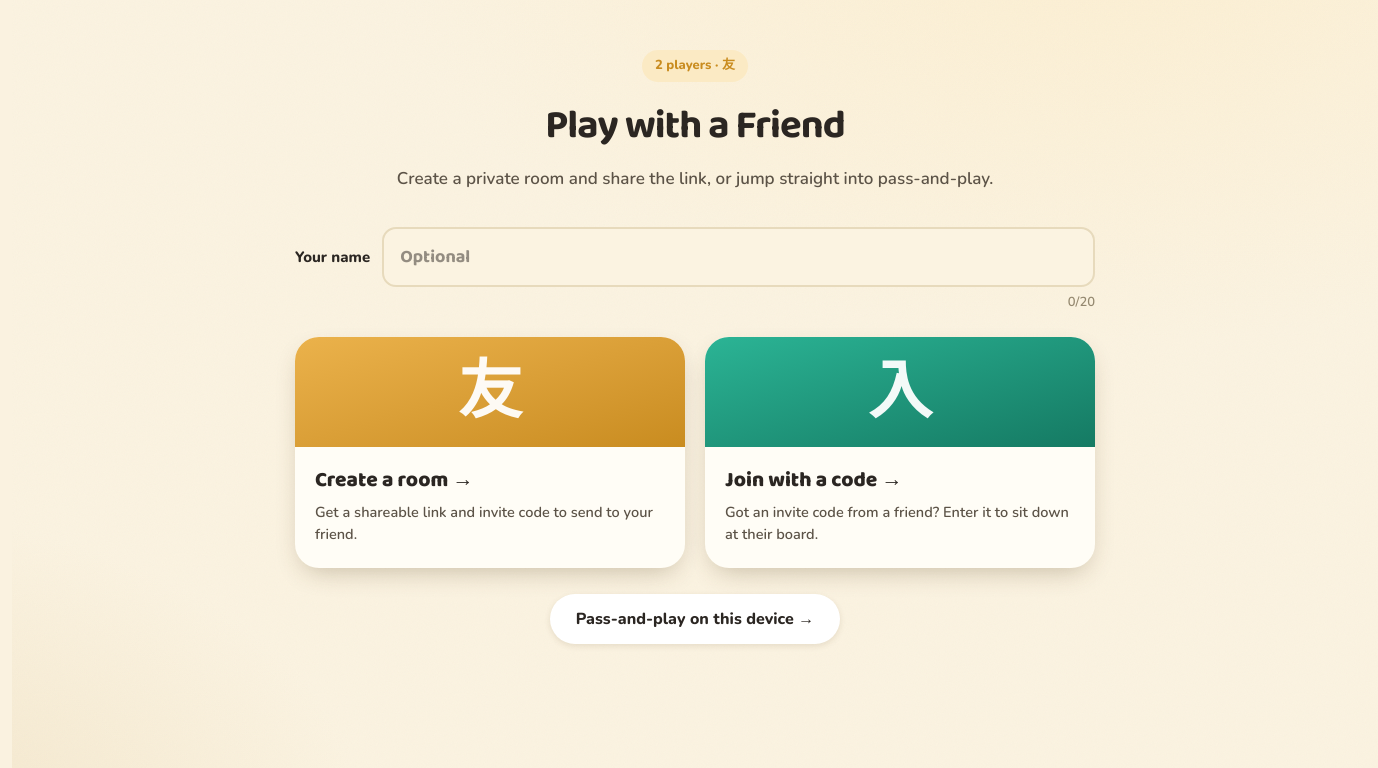
Test: MultiplayerScreen online waiting panel › invite panel starts open and toggles closed and open with chevrons
This screenshot has width=1378, height=768.
Step 1. Click the button "Create a room" → (490, 392), box [295, 336, 685, 568]
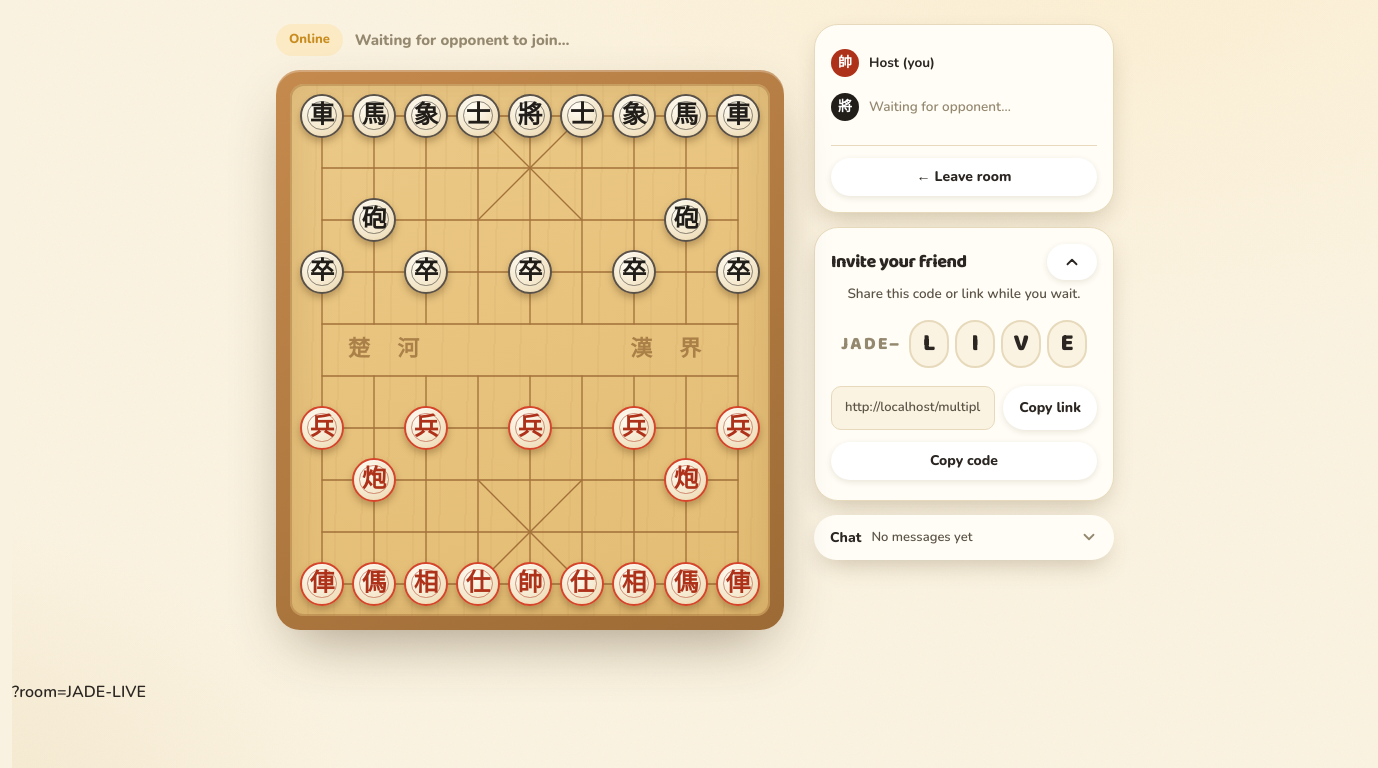
Expected: the element with test id "waiting-invite-panel" is shown, [814, 227, 1114, 501]
Expected: the element with test id "waiting-invite-body" is shown, [831, 284, 1097, 484]
Expected: the button "Copy link" is shown, [1003, 386, 1097, 430]
Step 2. Click the button with test id "waiting-invite-toggle" → (1072, 262), box [1047, 244, 1097, 280]
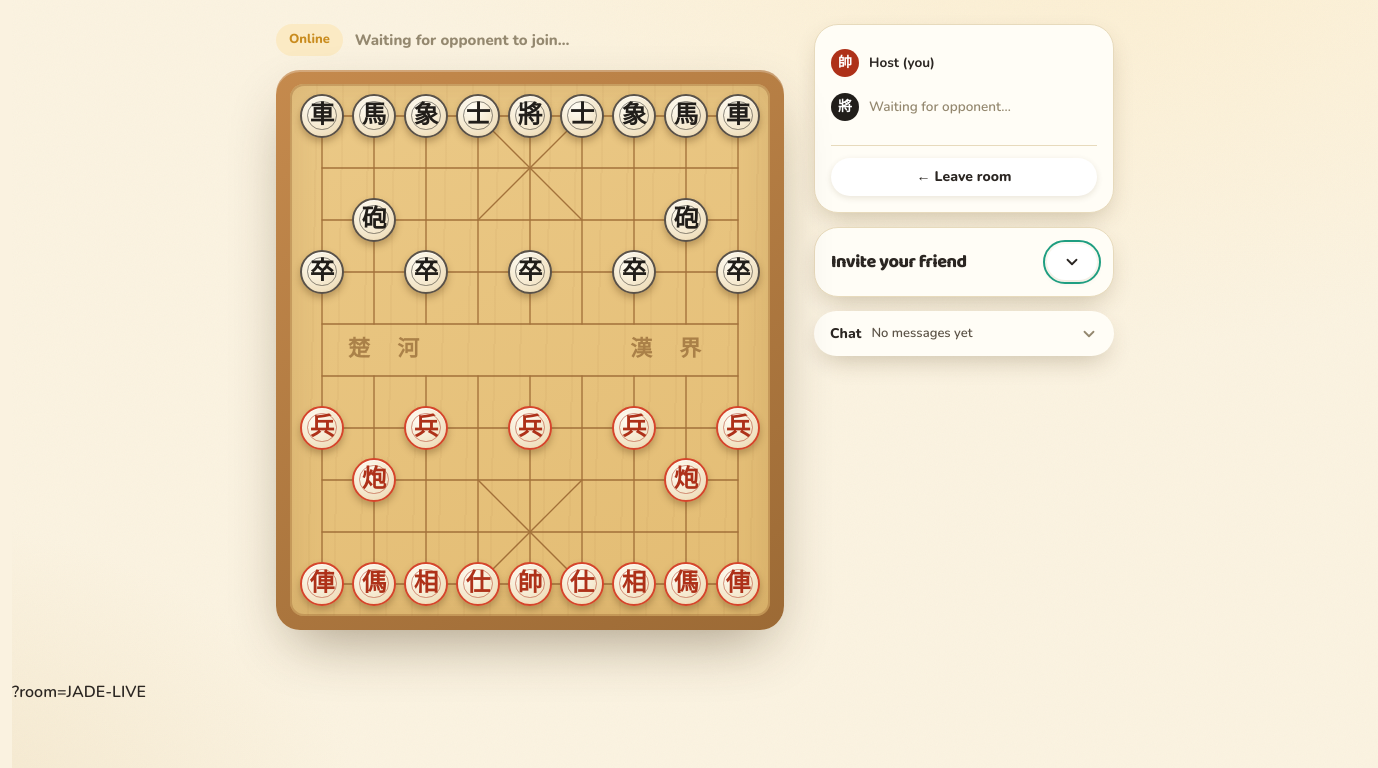
Expected: the heading "Invite your friend" is shown, [831, 248, 967, 276]
Expected: the button with test id "waiting-invite-toggle" is collapsed
Expected: the element with test id "waiting-invite-body" is gone
Step 3. Click the button with test id "waiting-invite-toggle" → (1072, 262), box [1047, 244, 1097, 280]
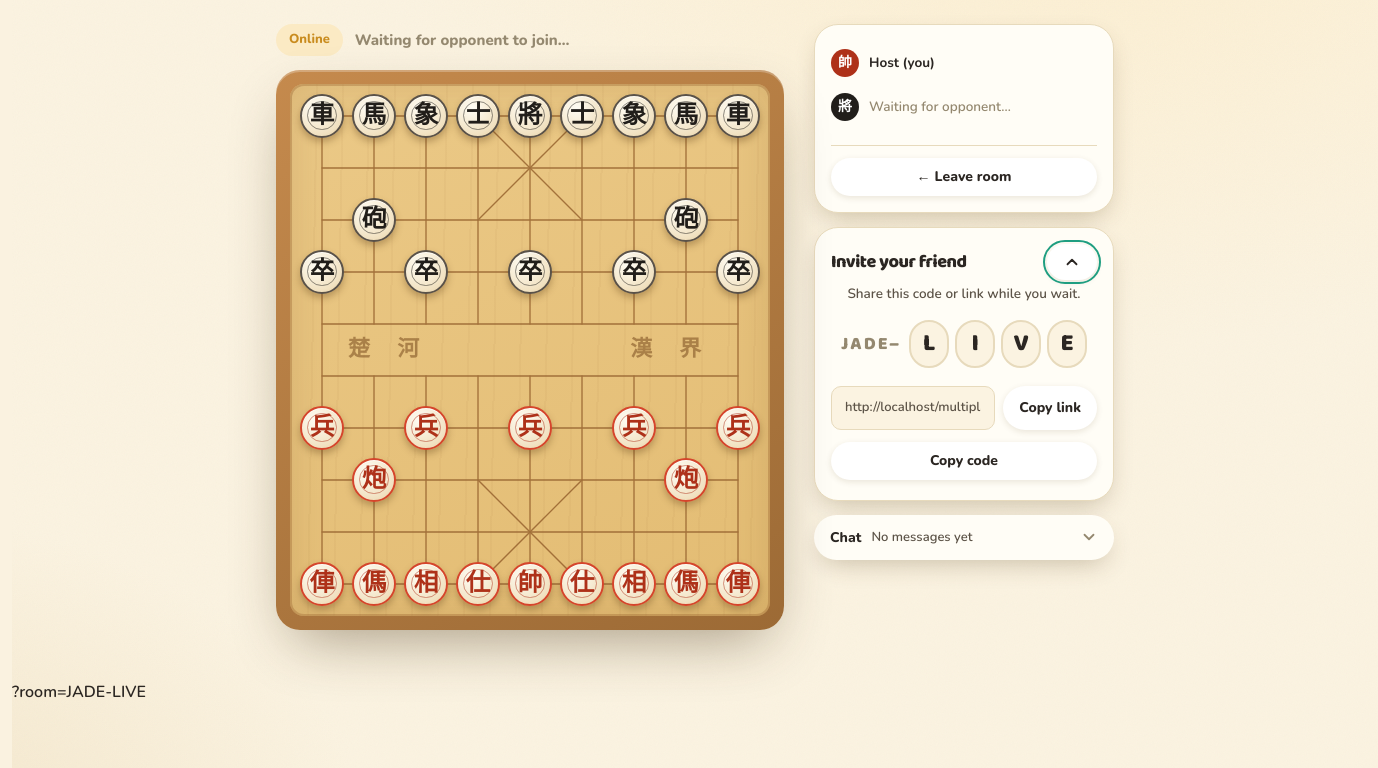
Expected: the button with test id "waiting-invite-toggle" is expanded, [1047, 244, 1097, 280]
Expected: the element with test id "waiting-invite-body" is shown, [831, 284, 1097, 484]
